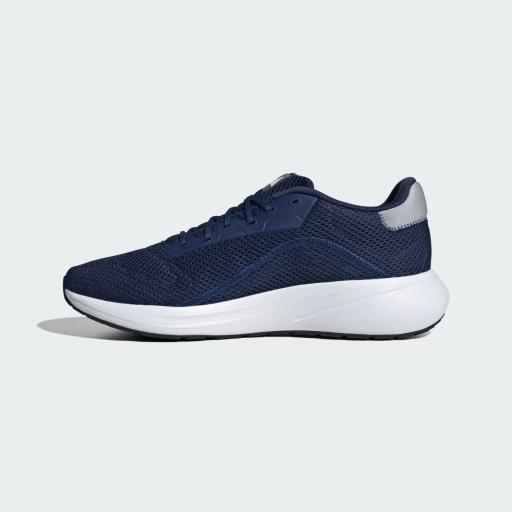shoe: (61, 169, 453, 343)
